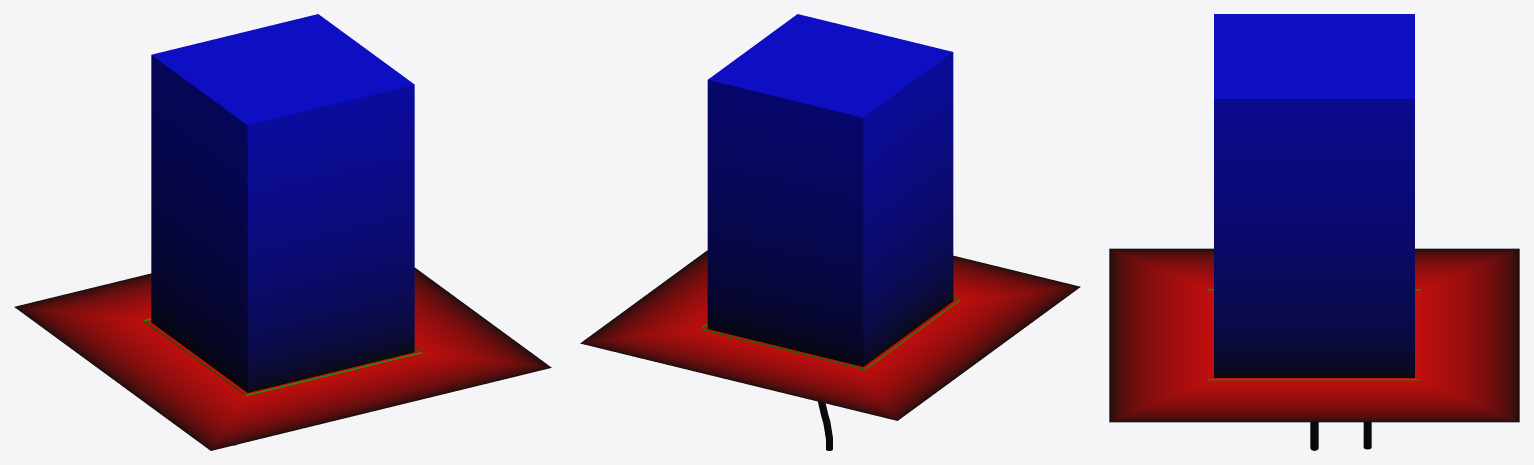
Rendered from CeilingHoleV3-Smaller+Cables.fbx.
3 renders of one model, left to right at view 1: azimuth 30°, elevation 25°; view 2: azimuth 150°, elevation 25°; view 3: azimuth 270°, elevation 25°, orthographic. The views are drawn at different scales.
Visible parts, largest first — view 1: CeilingHoleV3_Smaller_Cables; view 2: CeilingHoleV3_Smaller_Cables; view 3: CeilingHoleV3_Smaller_Cables.
Boxes of the visible parts, x1=… form: CeilingHoleV3_Smaller_Cables: x1=14, y1=14, x2=551, y2=450; CeilingHoleV3_Smaller_Cables: x1=580, y1=14, x2=1080, y2=450; CeilingHoleV3_Smaller_Cables: x1=1109, y1=14, x2=1519, y2=450.
Size of the model in its own units: 200 by 217 by 200.
